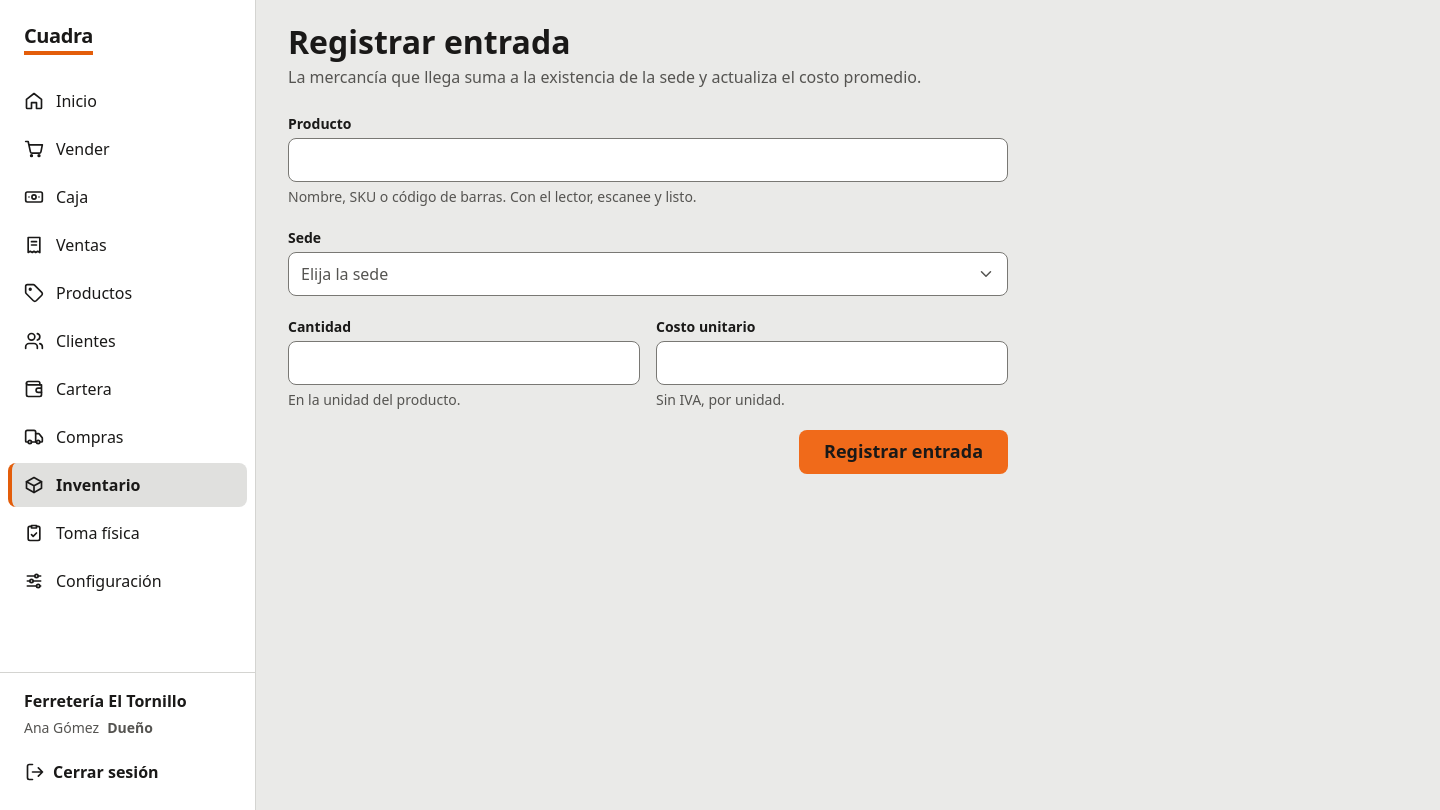
it: ReceiptPage › en unidad alternativa › en la unidad base no envía unit_id
Type "tubo" into the search field labelled "Producto". click: {"x": 648, "y": 160}
box: [288,138,1008,182]
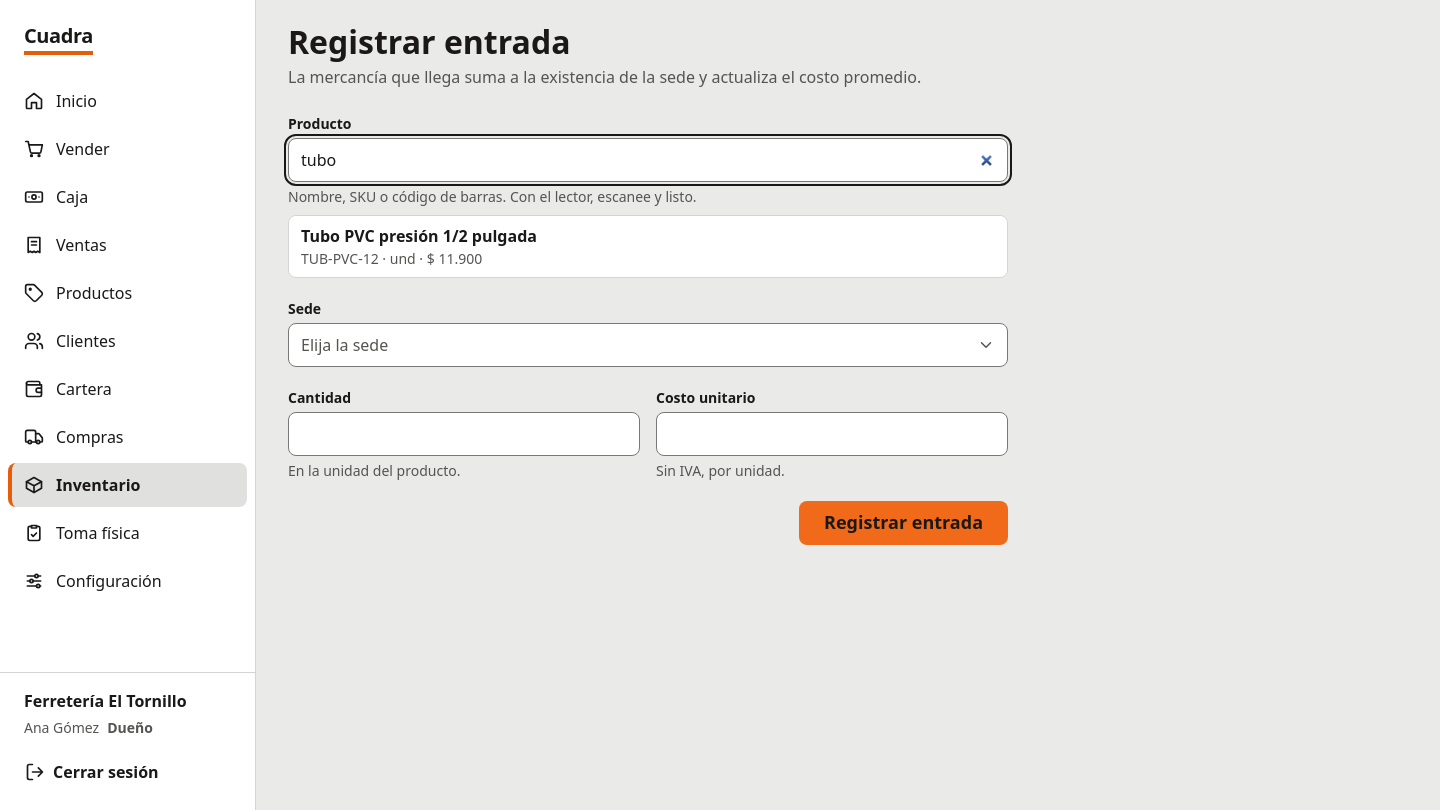
Click the button "Tubo PVC presión 1/2 pulgada TUB-PVC-12 · und · $ 11.900". click: {"x": 419, "y": 236}
box: [289,216,1007,277]
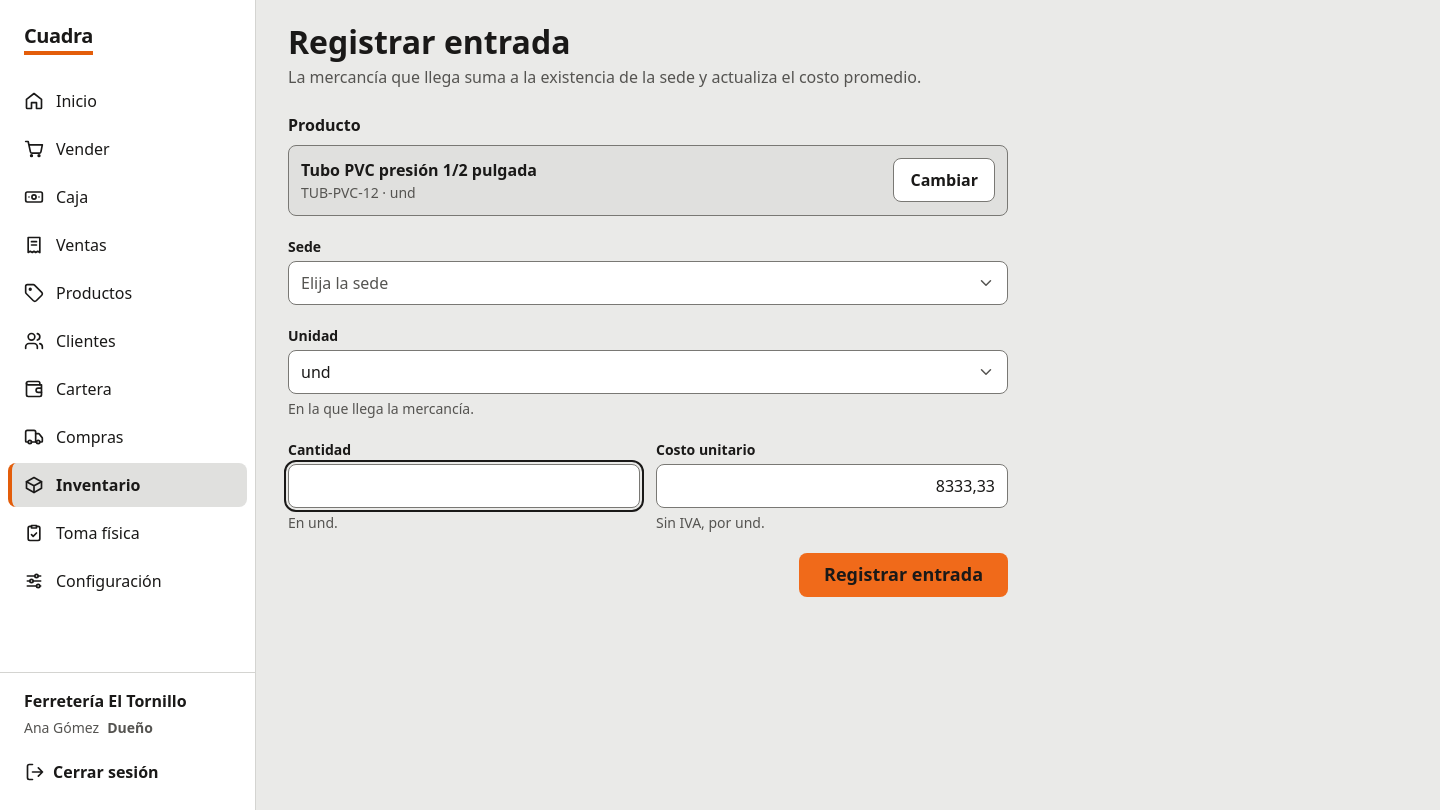
Click the dropdown labelled "sede". click: {"x": 345, "y": 283}
box: [288,261,1008,305]
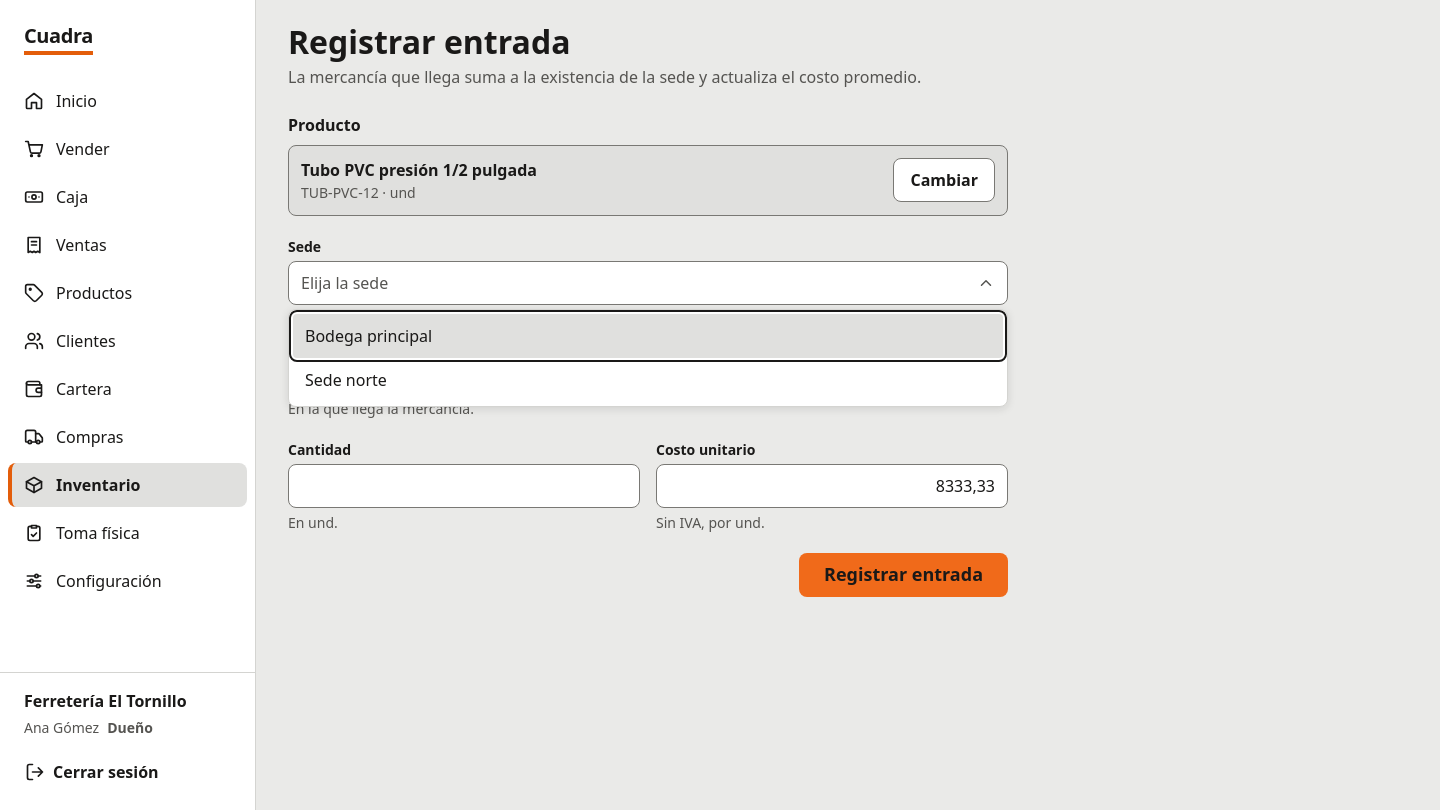
Click the option "Bodega principal". click: {"x": 369, "y": 336}
box: [293,314,1003,358]
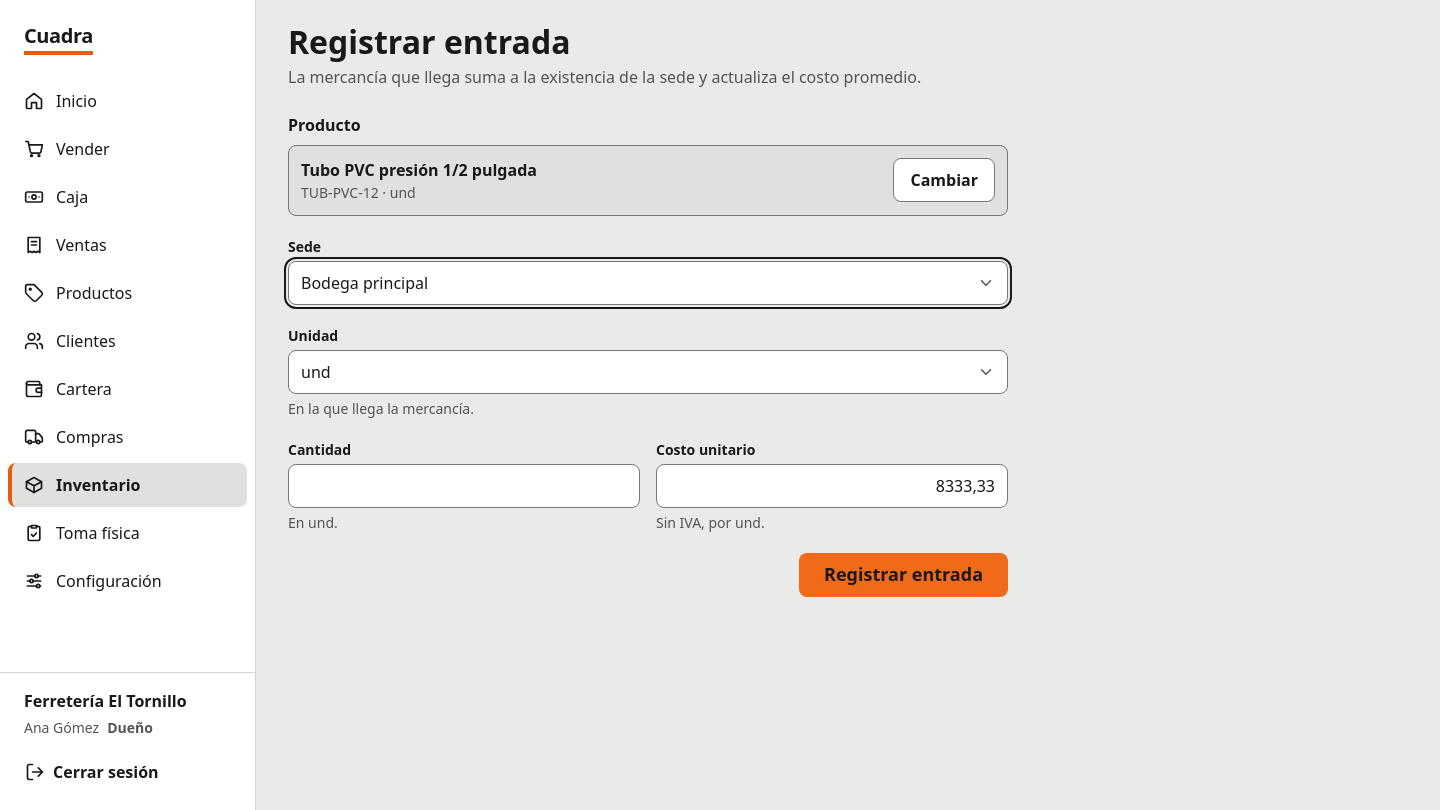
Expected: the dropdown named "Unidad" reads "und", [288,350,1008,394]
Type "10" into the field labelled "Cantidad". click: {"x": 464, "y": 486}
box: [288,464,640,508]
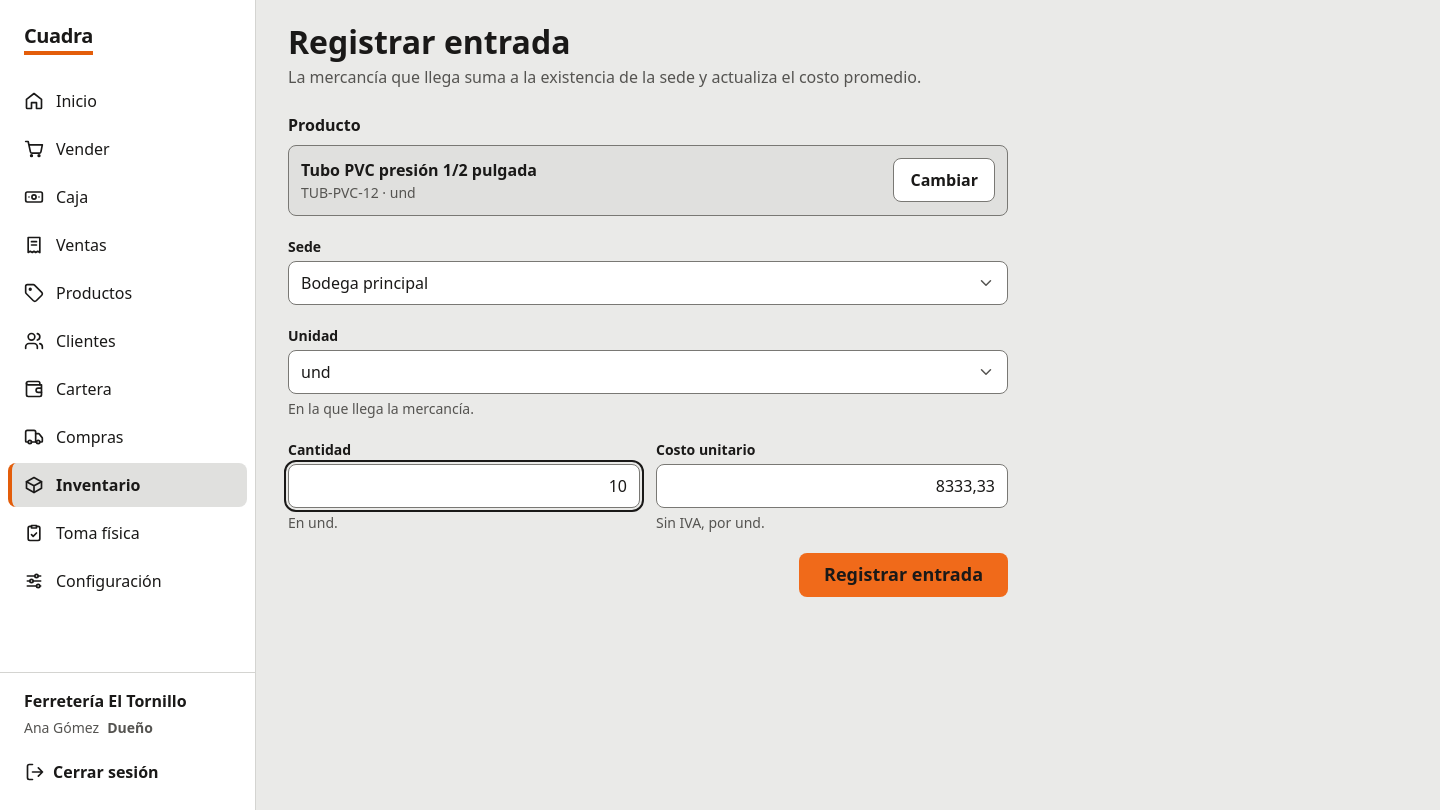
Click the button "Registrar entrada". click: {"x": 904, "y": 575}
box: [799,553,1008,597]
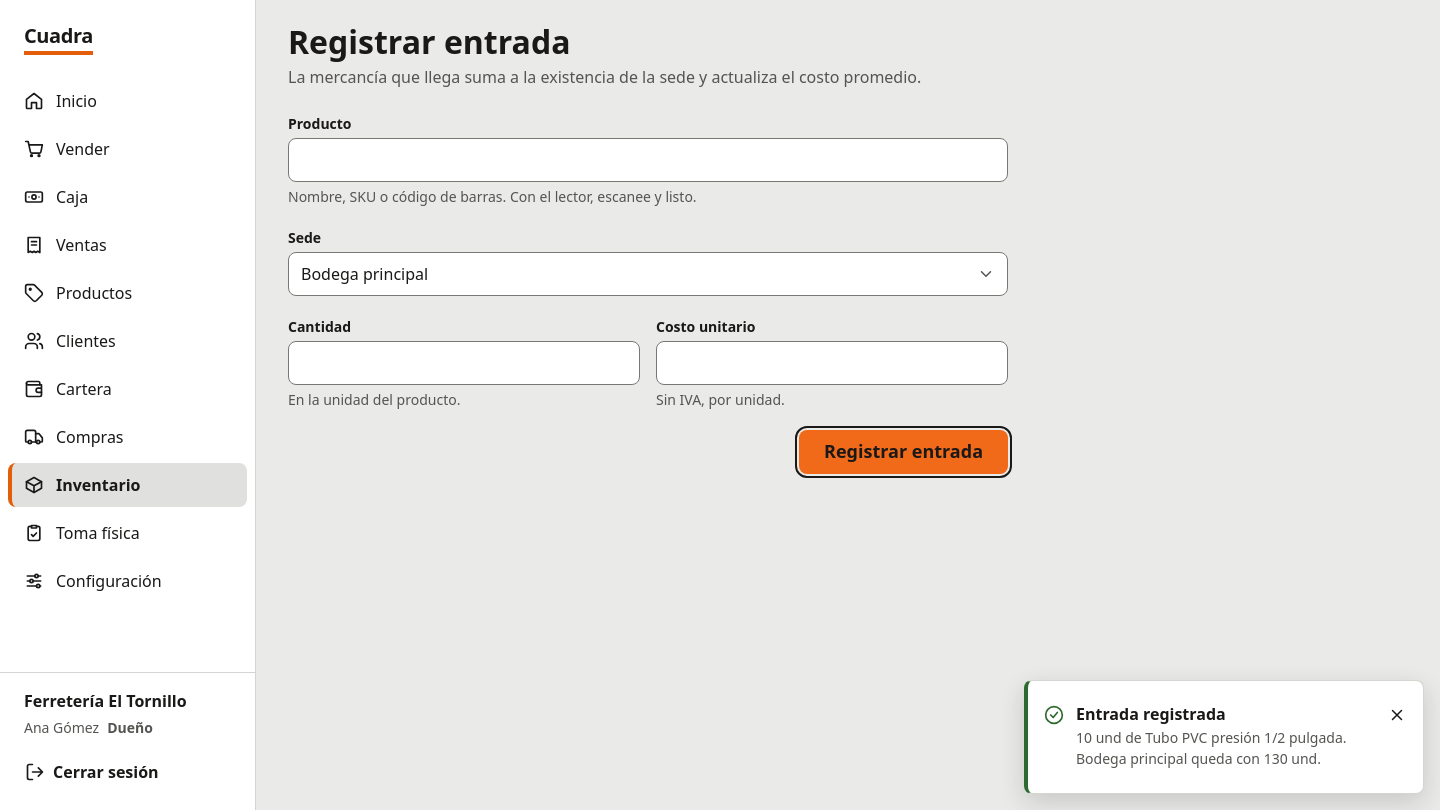
Expected: the text "Entrada registrada" is shown, [1076,703,1226,725]
